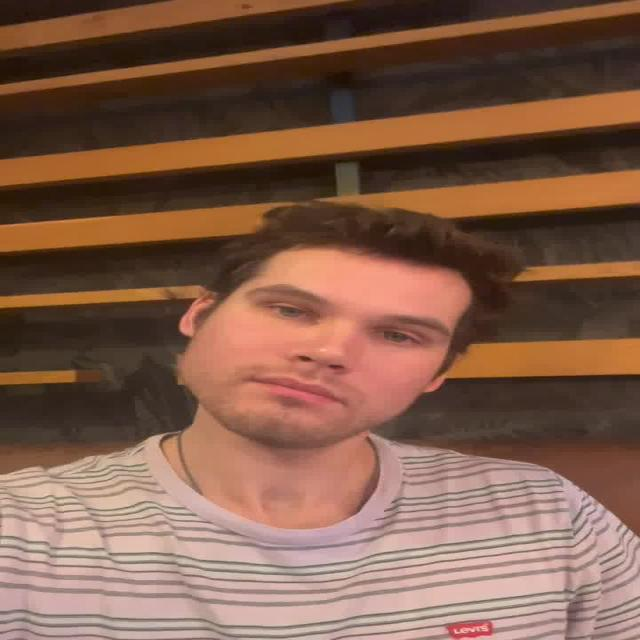earlobe: (179, 288, 218, 337), (422, 353, 461, 393)
